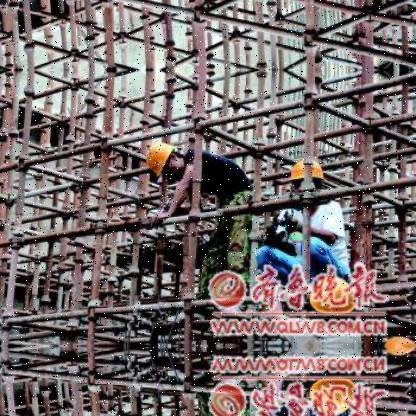Helmet: (144, 137, 192, 184), (290, 161, 324, 203)
